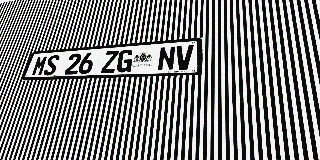plate: (22, 37, 203, 81)
